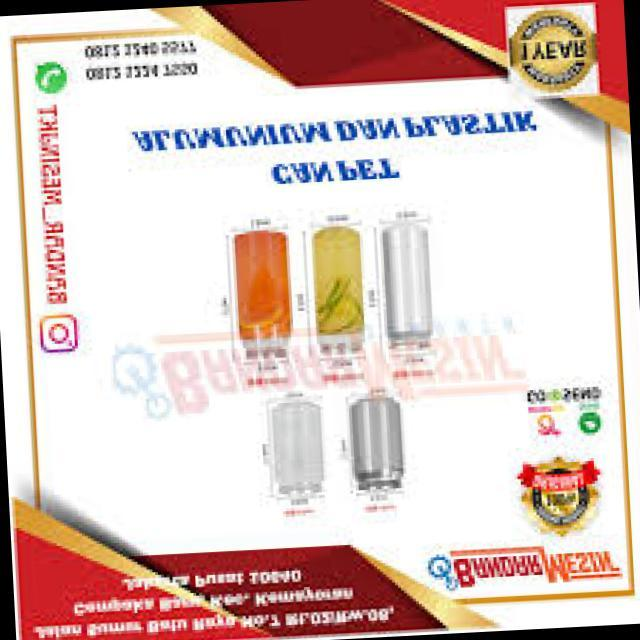good: (222, 213, 300, 380), (312, 202, 384, 364)
